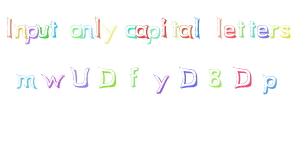8: (207, 66, 226, 91)
D: (97, 62, 119, 92), (178, 64, 200, 93), (230, 65, 255, 90)
I: (3, 14, 18, 41)
U: (68, 63, 93, 92)
a: (180, 22, 194, 45), (135, 22, 149, 41)
c: (124, 19, 136, 42)
e: (223, 19, 238, 43), (257, 19, 268, 41)
f: (124, 66, 144, 90)
i: (159, 18, 171, 39)
l: (191, 11, 207, 40), (213, 15, 223, 42), (93, 14, 103, 39)
m: (12, 67, 39, 92)
n: (82, 19, 95, 43), (14, 19, 27, 42)
o: (66, 20, 83, 41)
p: (260, 72, 280, 98), (26, 21, 38, 46), (148, 24, 160, 47)
r: (269, 21, 280, 44)
s: (282, 21, 294, 41)
t: (49, 17, 60, 40), (170, 18, 180, 40), (237, 18, 246, 41), (248, 16, 255, 43)
u: (37, 19, 49, 42)
w: (39, 70, 66, 91)
y: (150, 71, 173, 96), (102, 23, 119, 47)
